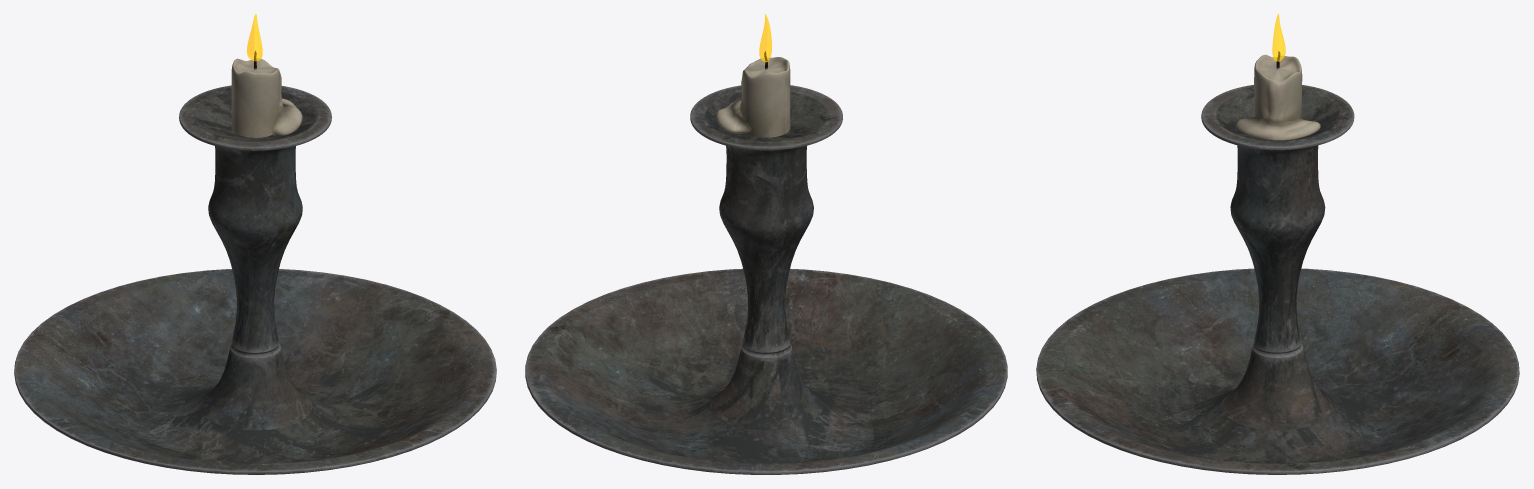
The model's file is candle_stand.glb.
3 views of the same model, side by side, from view 1: azimuth 30°, elevation 25°; view 2: azimuth 150°, elevation 25°; view 3: azimuth 270°, elevation 25° (orthographic).
Visible parts, largest first — view 1: candlestick, candle01, candle02, fire; view 2: candlestick, candle01, candle02; view 3: candlestick, candle01, candle02.
Boxes of the visible parts, x1,y1,x2,y2 form: candlestick: (14,85,496,474); candle01: (231,58,283,137); candle02: (272,98,302,136); fire: (246,14,262,61); candlestick: (525,85,1007,474); candle01: (739,57,790,137); candle02: (716,99,751,133); candlestick: (1036,85,1519,474); candle01: (1254,54,1302,122); candle02: (1235,117,1320,140).
Bounding box in the file's own units: 651 × 622 × 651.
Materials: 3 (2 with a texture image).
